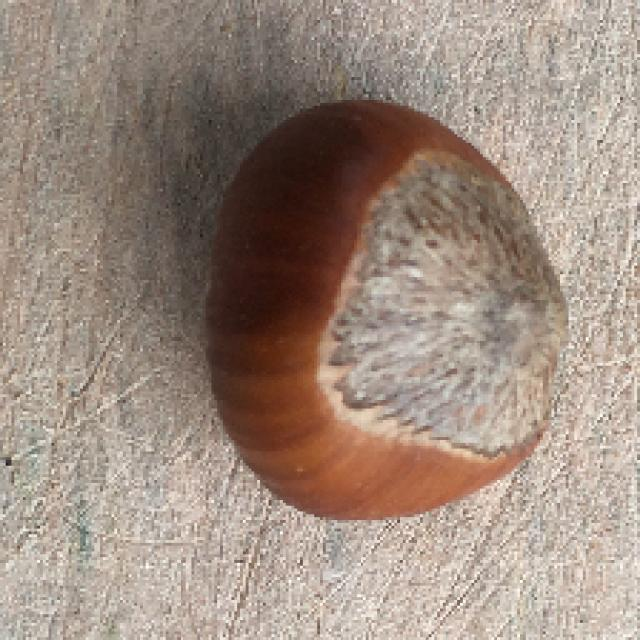DamagedHazelnut: (205, 100, 569, 520)
